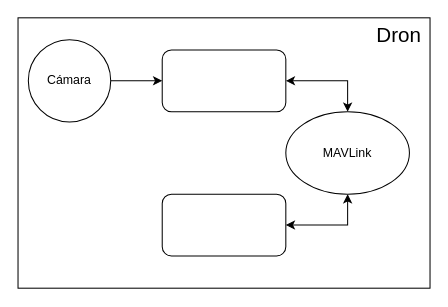
This 448x307 diagram has some shape labels left out. The centre of each missing label's shape, as x and y in pixels:
"Computadora de compañía" belongs at point (223, 80).
"Controlador de vuelo" belongs at point (223, 224).
